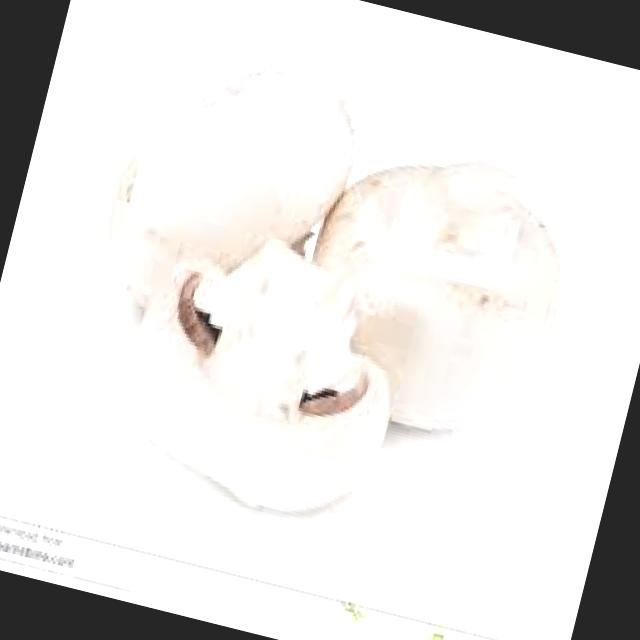Agaricus bisporus: (99, 210, 424, 544), (280, 127, 596, 455), (90, 35, 374, 342)
